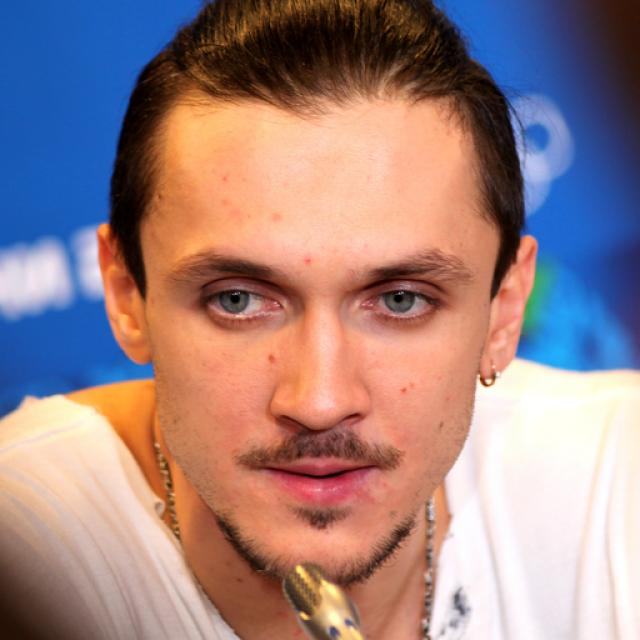Acne: (289, 246, 322, 270), (258, 341, 281, 368), (393, 379, 423, 396)
Spots: (219, 198, 253, 225), (209, 167, 245, 187), (267, 208, 288, 223), (431, 414, 446, 431)
